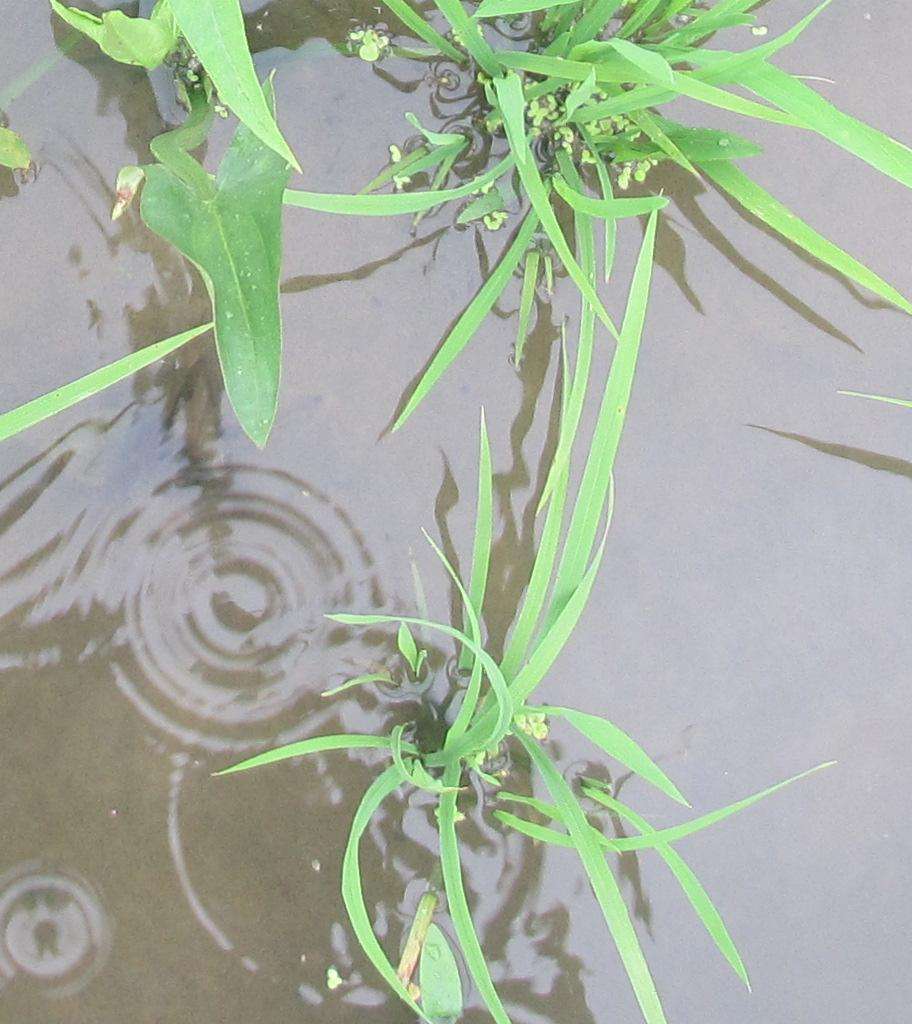Weed: (128, 144, 297, 449)
